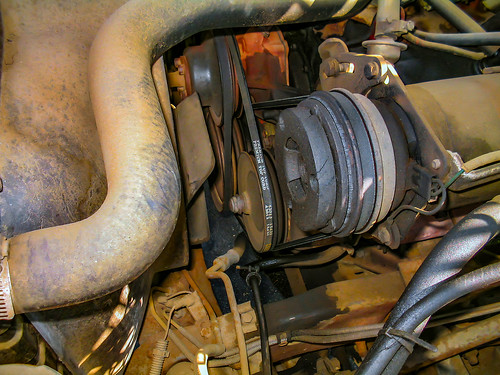motor: (77, 1, 500, 375)
